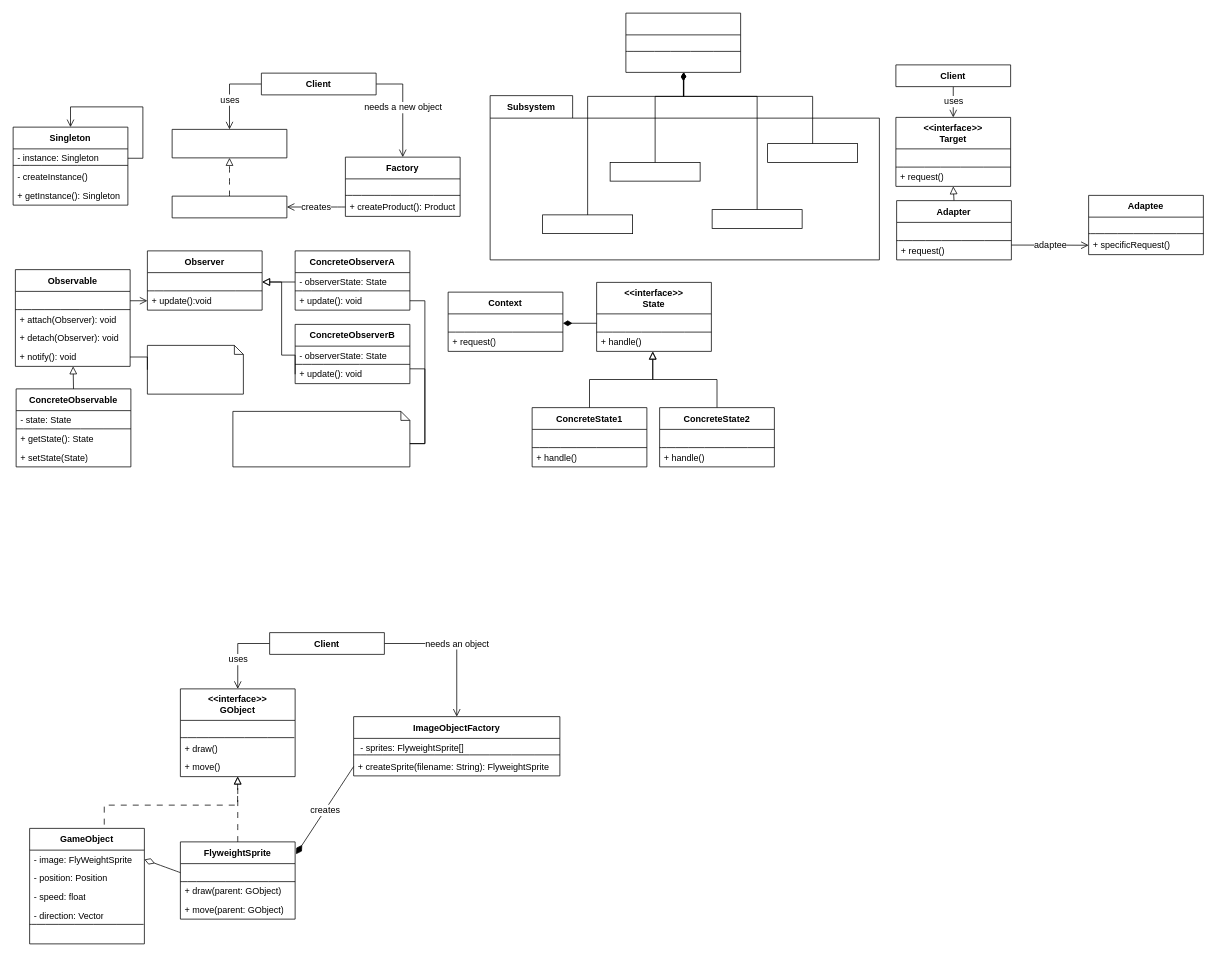
This 1217x957 diagram has some shape labels left out. The shapes that lost their labels are listed below. From the top down, each one's centre as x and y in pixels, then its label:
At point 683,42: "Facade".
At point 229,143: "<<interface>> Product".
At point 229,206: "ConcreteProduct".
At point 195,369: "for all o in observers{ o.update(); }".
At point 321,439: "void update() { observerState = observable.getState() }".
